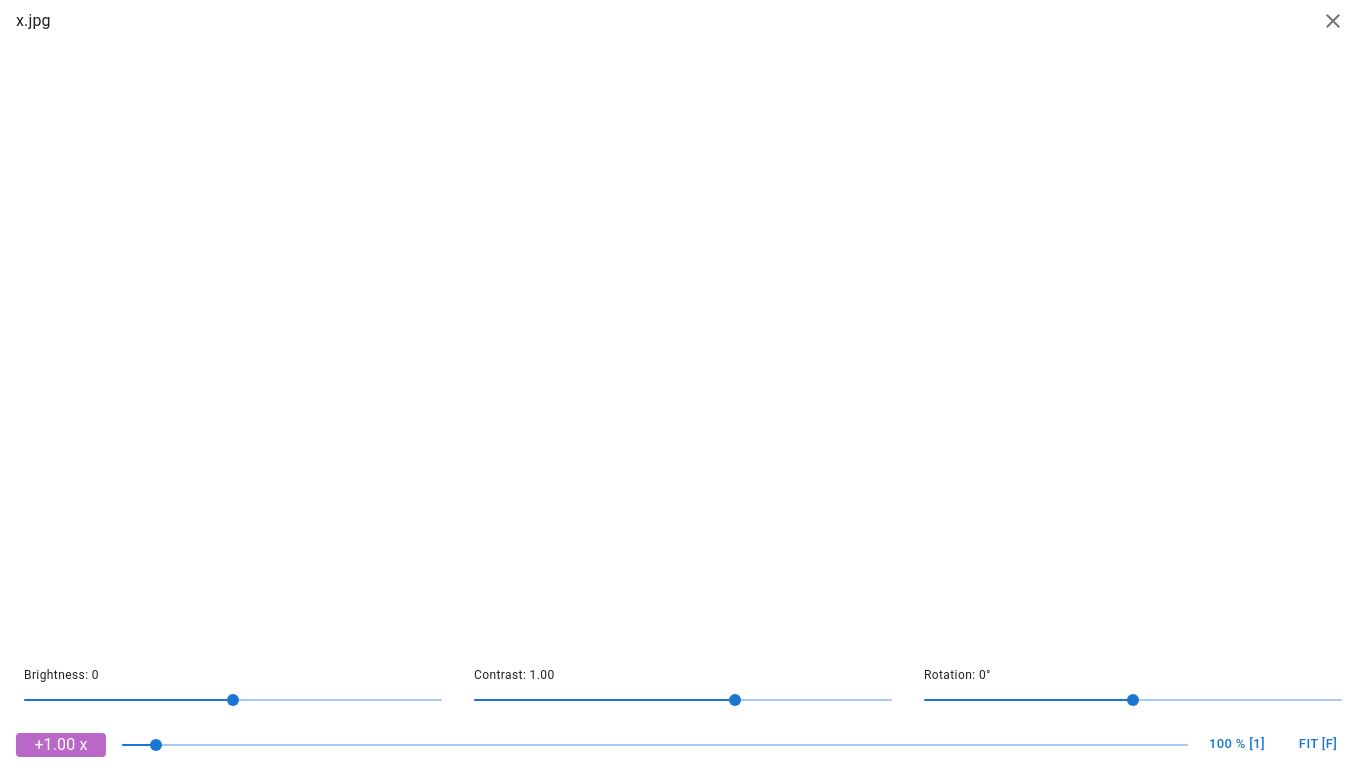
Test: ZoomViewer (cutter checklist 43-45) › the zoom slider maps value/100 (250 -> +2.50 x)
The width and height of the screenshot is (1366, 768).
Step 1. Set the slider named "Zoom" to "250" → (156, 745), box [150,739,162,751]
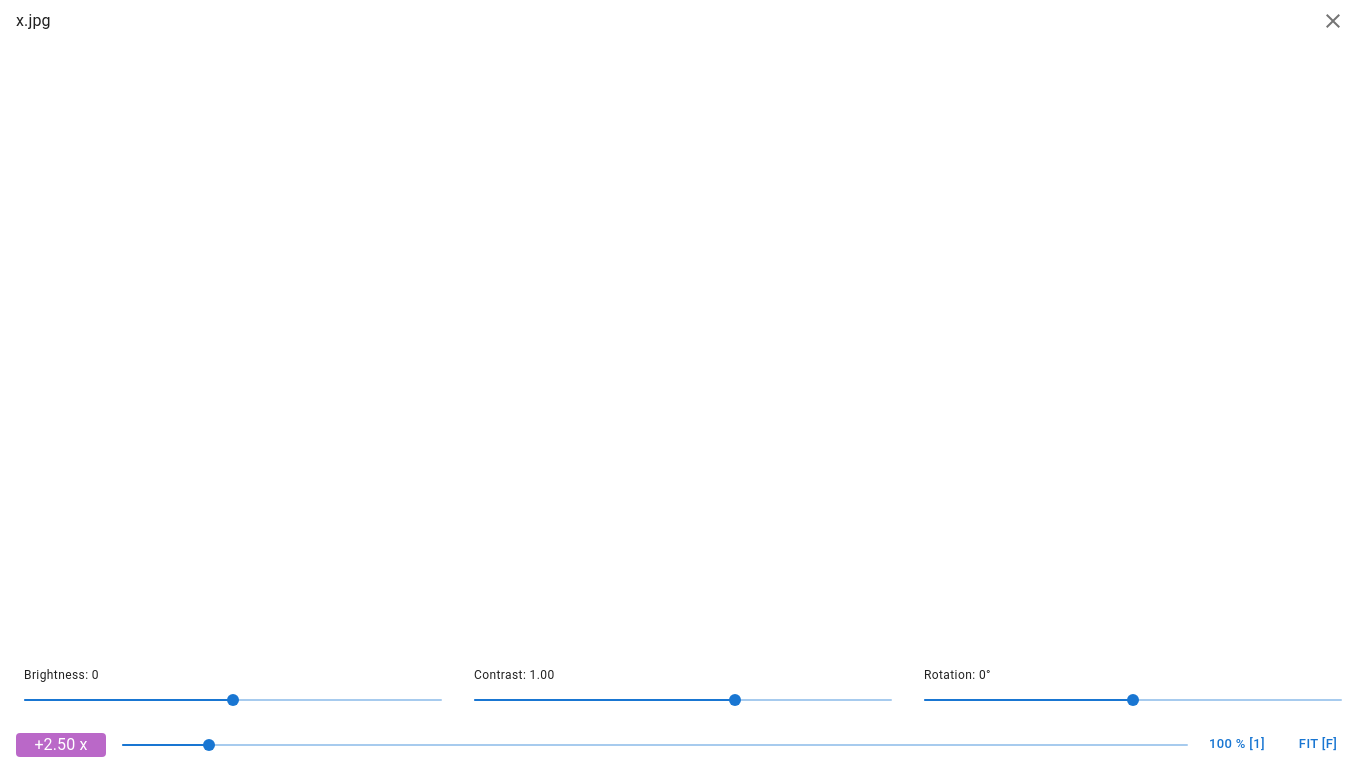
Expected: the text with test id "zoom-label" reads "+2.50 x", [34,735,88,754]
